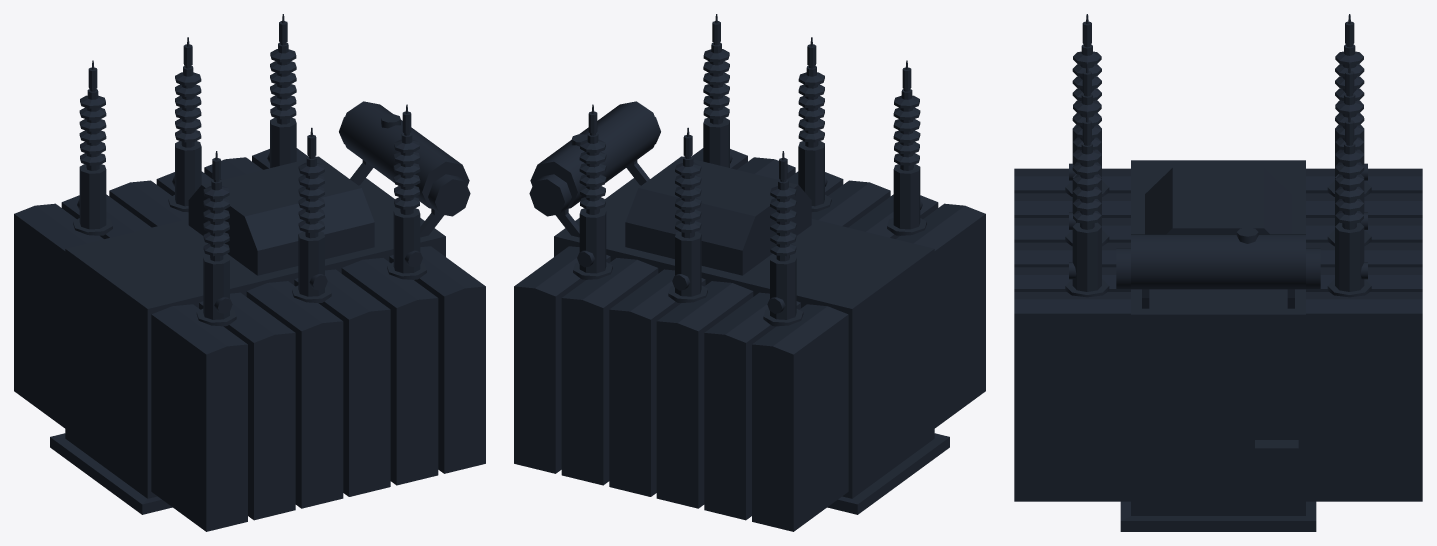
File: Transformer_snaps018.fbx
The picture shows the model from 3 angles, left to right: view 1: azimuth 30°, elevation 25°; view 2: azimuth 150°, elevation 25°; view 3: azimuth 270°, elevation 25°; orthographic projection. The views are drawn at different scales.
Parts seen in each view (by area): view 1: Transformer_snaps018; view 2: Transformer_snaps018; view 3: Transformer_snaps018.
Part boxes in pixels (box(x1,y1,x2,y2)): Transformer_snaps018: box(14, 14, 485, 531); Transformer_snaps018: box(514, 14, 985, 531); Transformer_snaps018: box(1014, 14, 1422, 531).
Size of the model in its own units: 698 by 725 by 700.
